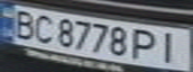7: (69, 18, 93, 52), (90, 20, 112, 55)
8: (106, 24, 133, 57), (51, 16, 75, 48)
B: (6, 7, 39, 39)
C: (30, 12, 57, 44)
I: (154, 29, 187, 64)
P: (127, 26, 163, 61)
